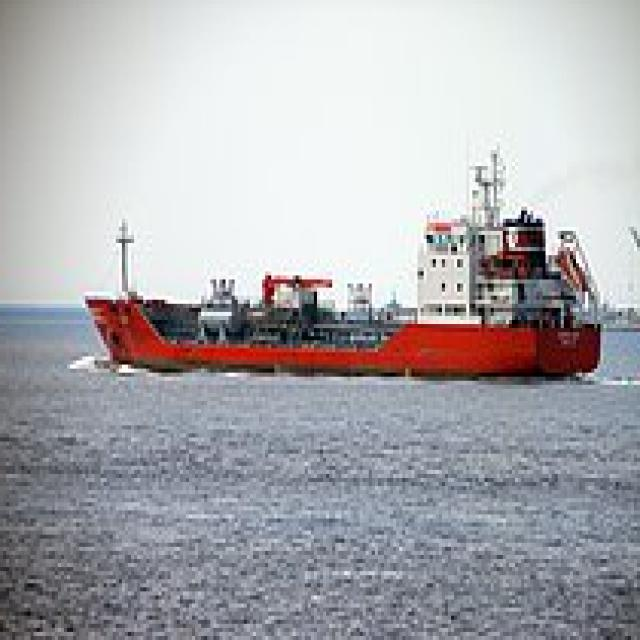Tanker: (83, 138, 606, 376)
